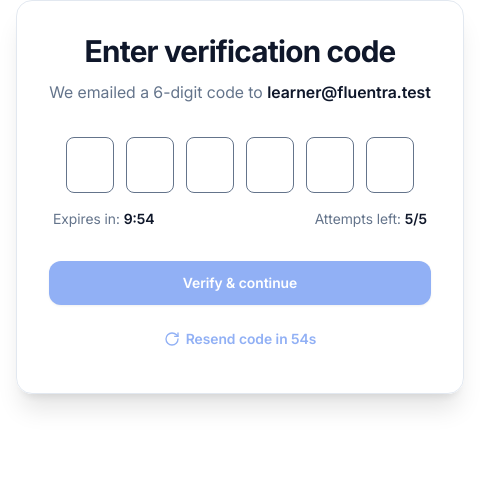
Test case: Auth Flows (Tasks 1, 3, 4, 5, 6, 7, 8) › Task 3, 4, 6: OtpVerificationScreen (Real OpenAPI shape & Server Meta) › reads authoritative attempts_remaining from server Problem Details meta
Click the field named "Digit 1 of 6" at (90,164), box [66,136,114,192]
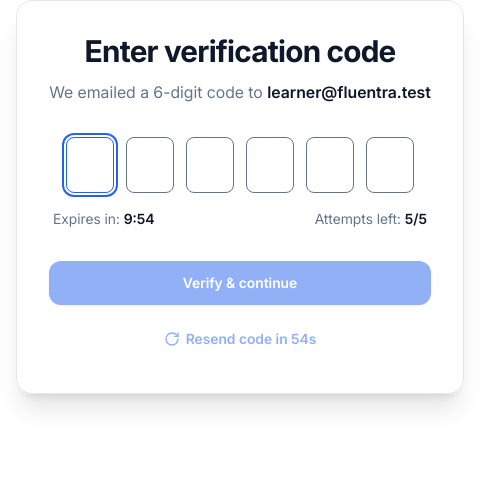
Type keys "999999"
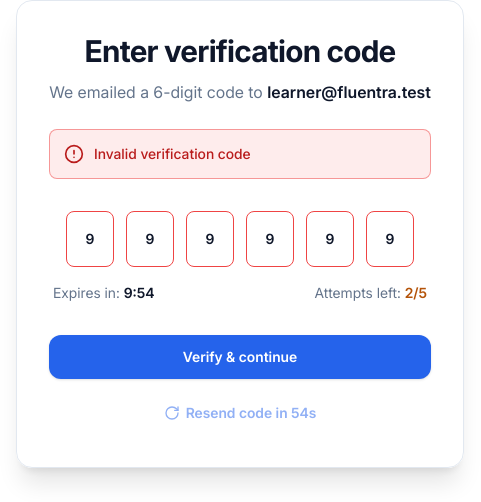
Now the text "Attempts left: 2/5" is shown, box [314,282,427,302]
